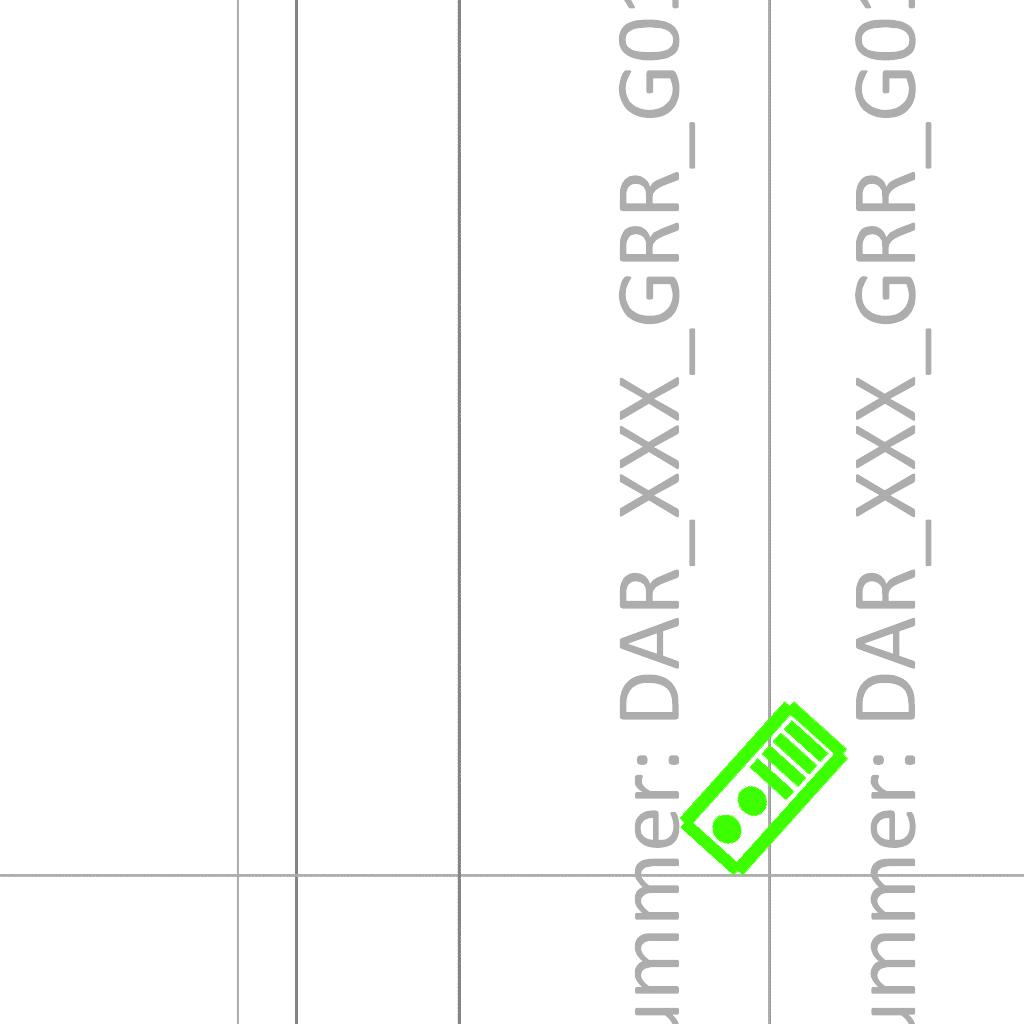Gegensprechanlage_mit_Video: (670, 692, 859, 888)
